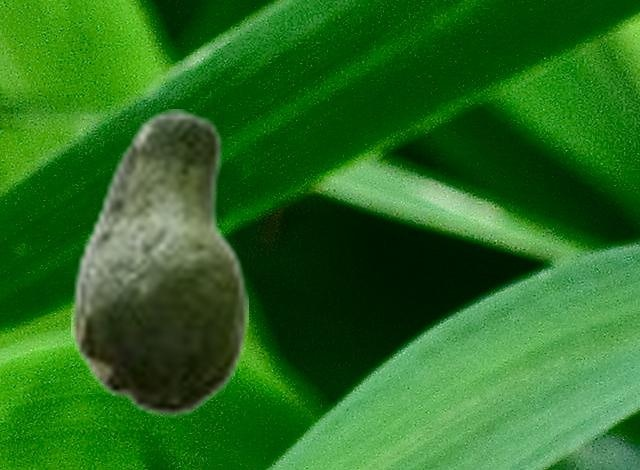sayote: (71, 109, 247, 417)
